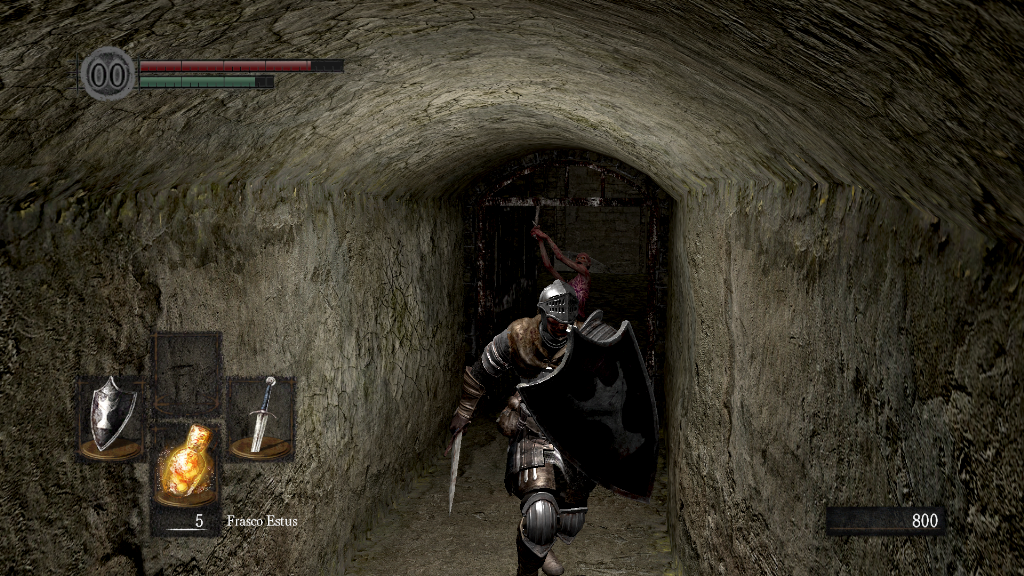health: (138, 58, 343, 71)
hollow: (530, 228, 593, 324)
humanity: (80, 45, 136, 102)
player: (449, 279, 661, 576)
souls: (825, 506, 945, 536)
stamina: (138, 74, 274, 88)
